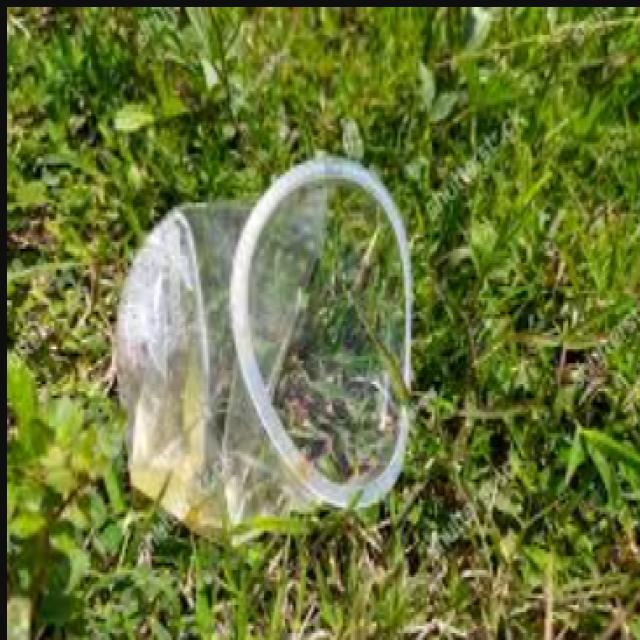GelasPlastik: (112, 152, 414, 542)
